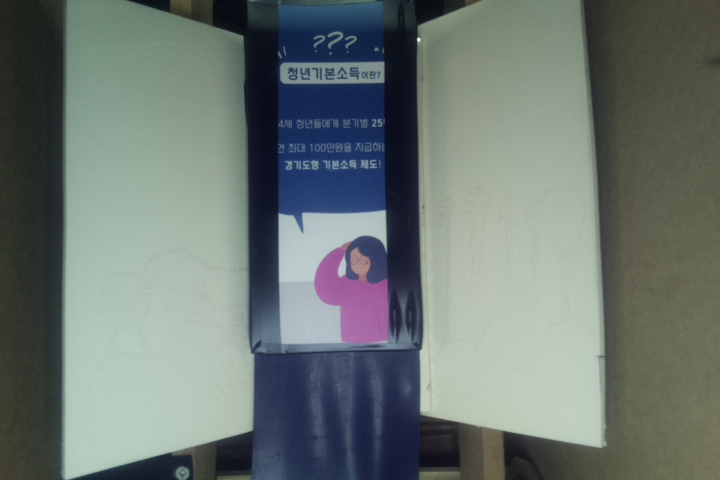book: (246, 1, 418, 354)
